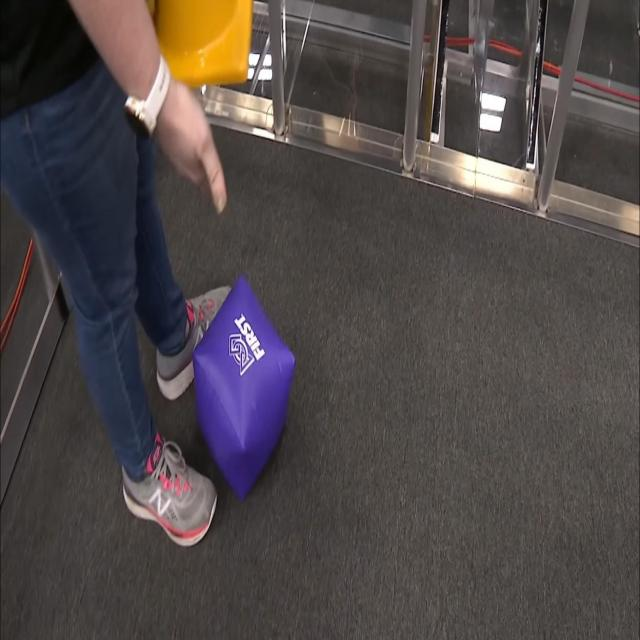frc_cone: (138, 0, 254, 98)
frc_cube: (190, 279, 300, 501)
